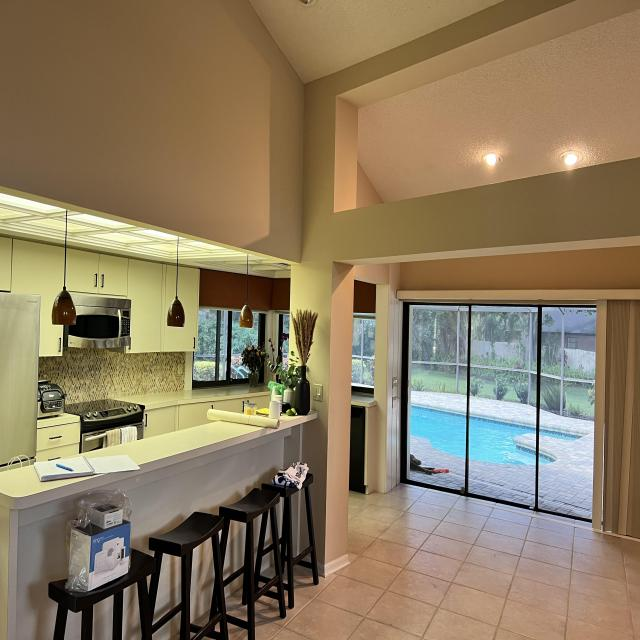Appliance_Fridge: (0, 291, 41, 470)
Appliance_Oven: (63, 400, 147, 454), (348, 404, 368, 495)
Cabinet_Flat: (0, 237, 200, 358), (143, 392, 270, 438), (36, 423, 80, 462)
Countertop_Laminate: (66, 422, 261, 465), (1, 467, 119, 498), (117, 386, 269, 410), (352, 392, 377, 408)
